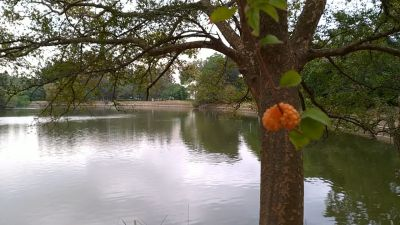eggs: (262, 103, 302, 133)
